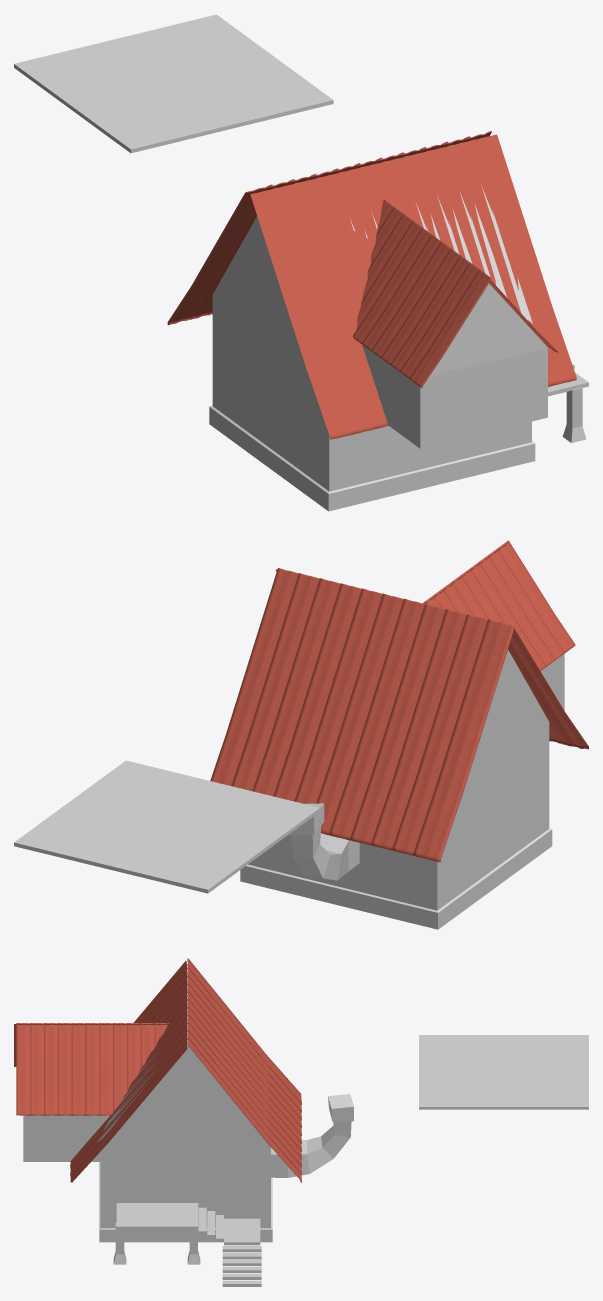
The model's file is DruidHouseV3.fbx.
3 renders of one model, top to bottom at view 1: azimuth 30°, elevation 25°; view 2: azimuth 150°, elevation 25°; view 3: azimuth 270°, elevation 25°, orthographic. The views are drawn at different scales.
Parts seen in each view (by area): view 1: Roof, Cube.008, Cube.003, Roof.003, Cube.006, Cube.001, Cube.002, Cube.007, Roof.001, Cube; view 2: Roof.001, Cube.008, Cube.003, Cube.001, Roof.003, Cube.002, Cube.005, Roof, Cube.006; view 3: Cube.008, Roof.002, Roof.001, Cube.001, Cube.002, Roof, Cube.006, Cube.003, Cube.005, Cube.009, Cube.014.
Boxes of the visible parts, bbox=[...] form: Roof: bbox=[250, 134, 576, 439]; Cube.008: bbox=[14, 14, 333, 153]; Cube.003: bbox=[209, 374, 535, 511]; Roof.003: bbox=[353, 200, 491, 387]; Cube.006: bbox=[362, 344, 547, 448]; Cube.001: bbox=[212, 295, 407, 459]; Cube.002: bbox=[212, 185, 532, 361]; Cube.007: bbox=[427, 283, 547, 379]; Roof.001: bbox=[167, 131, 491, 325]; Cube: bbox=[562, 387, 586, 442]; Roof.001: bbox=[210, 568, 514, 862]; Cube.008: bbox=[14, 760, 319, 893]; Cube.003: bbox=[240, 797, 552, 929]; Cube.001: bbox=[280, 722, 549, 878]; Roof.003: bbox=[422, 540, 575, 670]; Cube.002: bbox=[466, 650, 548, 782]; Cube.005: bbox=[288, 803, 359, 880]; Roof: bbox=[275, 569, 588, 749]; Cube.006: bbox=[540, 654, 564, 710]; Cube.008: bbox=[419, 1035, 588, 1109]; Roof.002: bbox=[16, 1023, 169, 1115]; Roof.001: bbox=[187, 958, 301, 1182]; Cube.001: bbox=[101, 1147, 270, 1204]; Cube.002: bbox=[97, 971, 270, 1147]; Roof: bbox=[70, 961, 187, 1182]; Cube.006: bbox=[23, 1115, 109, 1161]; Cube.003: bbox=[99, 1162, 272, 1242]; Cube.005: bbox=[271, 1094, 353, 1177]; Cube.009: bbox=[116, 1203, 198, 1229]; Cube.014: bbox=[224, 1218, 260, 1245].
Size of the model in its own units: 3483 by 2654 by 6766.
